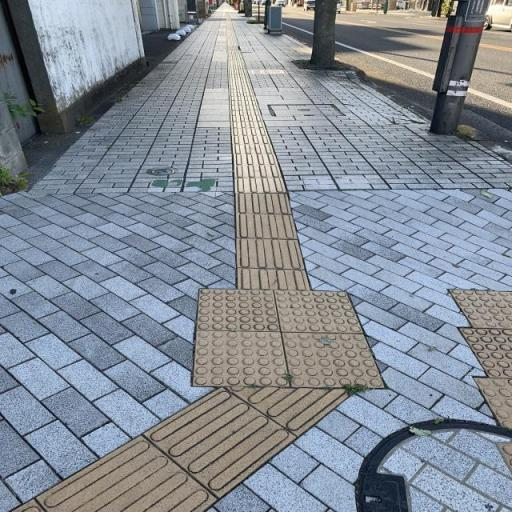dot: (281, 332, 385, 389), (193, 331, 290, 387), (275, 290, 363, 333), (196, 288, 280, 332)
line: (143, 386, 297, 500), (35, 434, 220, 511), (236, 238, 305, 270), (236, 212, 299, 239), (235, 193, 292, 214), (235, 178, 287, 194)
